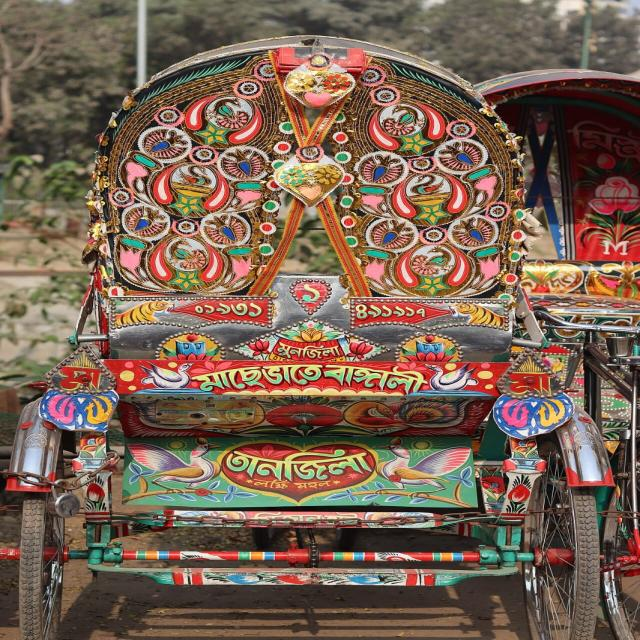Rickshaw: (1, 23, 640, 640), (279, 28, 640, 640)
